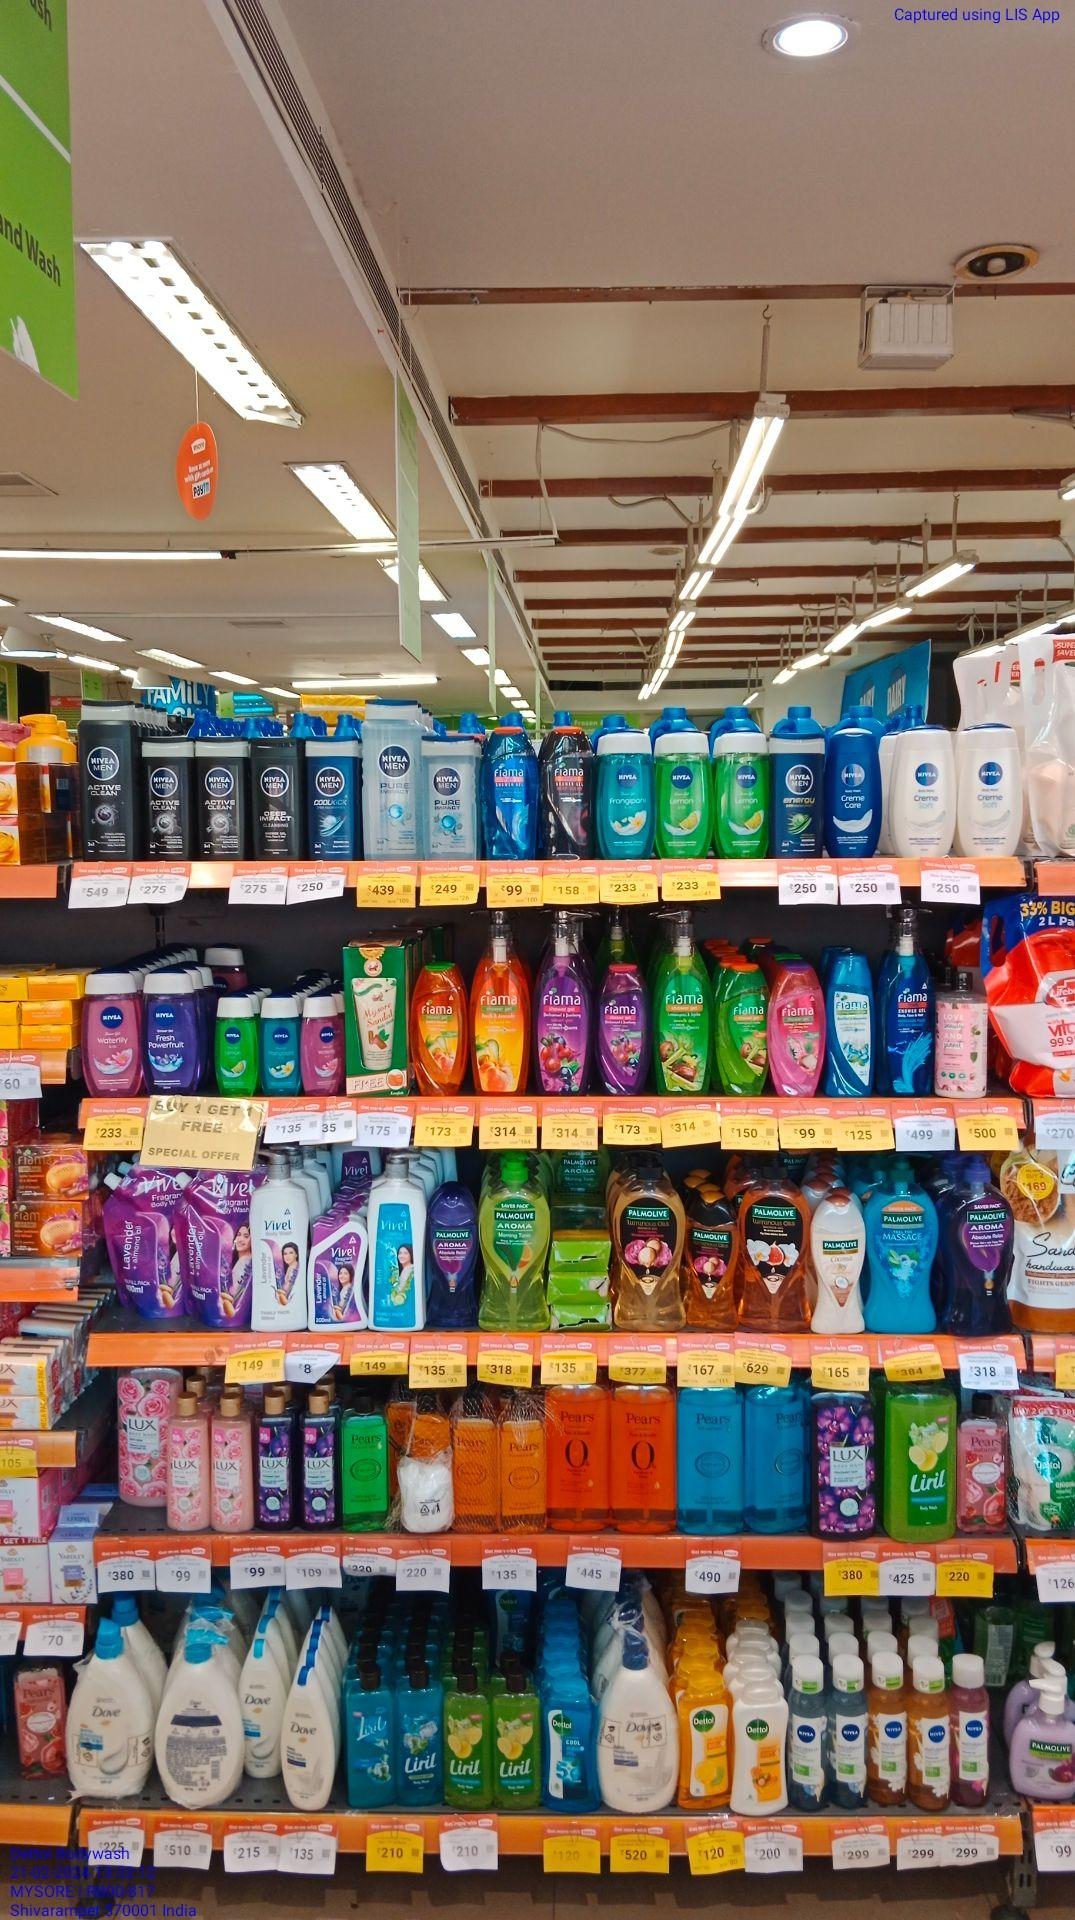Dettol_Bodywash_Cool: (539, 1676, 599, 1812)
Dettol_Bodywash_Refresh: (677, 1672, 732, 1809)
Dettol_Nourish_Body_Wash_250ML: (731, 1681, 789, 1815)
Dove_Deep_Moisture_Body_Wash_250ML: (278, 1664, 334, 1812)
Fiama_Shower_Gel_Lemongrass_and_Jojoba_250ML: (714, 964, 766, 1097)
Fiama_Shower_Gel_Patchouli_and_Macadamia_250ML: (765, 961, 826, 1097)
Fiama_Shower_Gel_Peach_and_Avocado_250ML: (409, 961, 466, 1096)
Liril_Cooling_Mint_Body_Wash_250ML: (344, 1669, 396, 1808), (396, 1663, 443, 1808)
Liril_Lime_and_Tea_Tree_Oil_Body_Wash_250ML: (489, 1668, 539, 1811), (442, 1669, 491, 1811)
Lux_Black_Orchid_Scent_and_Juniper_Oil_Body_Wash_245ML: (252, 1393, 294, 1532), (298, 1390, 338, 1532)
Nivea_Creme_Care_Body_Wash_250ML: (826, 725, 884, 857)
Nivea_Creme_Soft_Body_Wash_250ML: (955, 720, 1025, 856), (888, 723, 956, 856)
Nivea_Shower_Gel_Frangipani_and_Oil_250ML: (594, 728, 656, 860)
Nivea_Shower_Gel_Fresh_Powerfruit_250ML: (140, 968, 198, 1095)
Nivea_Shower_Gel_Lemon_and_Oil_250ML: (654, 727, 714, 858), (712, 727, 770, 857)
Nivea_Shower_Gel_Waterlily_and_Oil_250ML: (80, 969, 140, 1097)
Palmolive_Aroma_Relax_250ML: (426, 1182, 479, 1325)
Palmolive_Coconut_Joy_Exfoliating_Body_Wash_250ML: (807, 1196, 867, 1335)
Palmolive_Luminous_Oils_Invigorating_Macadamia_Oil_With_Peony_250ML: (683, 1187, 740, 1332)
Pears_Pure_Glycerin_and_Mint_Extracts_Body_Wash_250ML: (339, 1396, 389, 1534)
